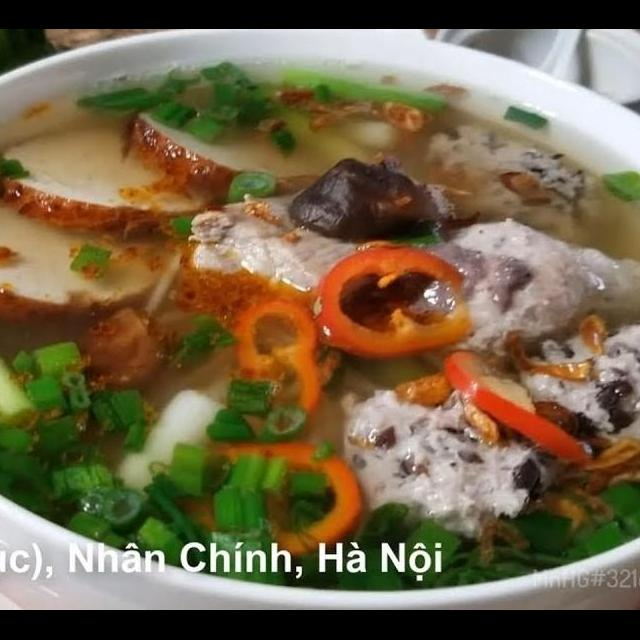thit heo: (175, 175, 463, 312)
vien moc: (326, 381, 562, 548), (415, 215, 640, 360), (424, 114, 621, 246), (495, 306, 640, 460)
